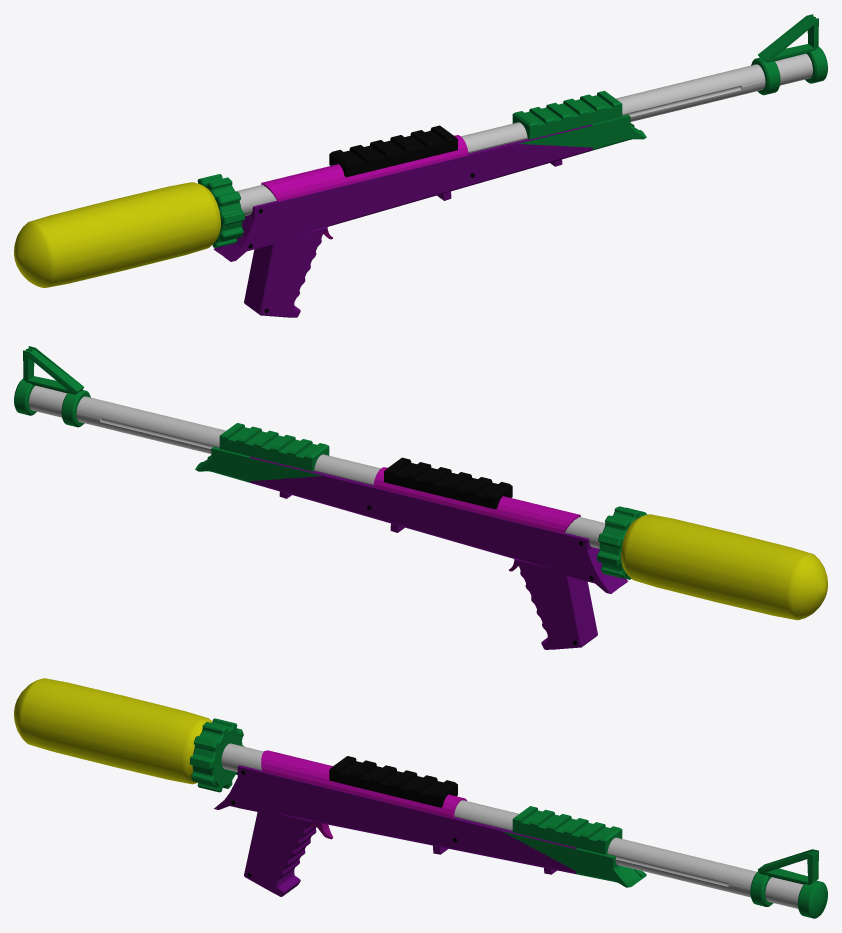
The model's file is Charger.fbx.
The picture shows the model from 3 angles, top to bottom: view 1: azimuth 30°, elevation 25°; view 2: azimuth 150°, elevation 25°; view 3: azimuth 330°, elevation 25°; orthographic projection.
Visible parts, largest first — view 1: pCylinder1, pCube3, pCylinder9, pCube4, pCube10, pCube9, pCylinder15, pCylinder2, pCube1, pCylinder5; view 2: pCylinder1, pCube3, pCylinder9, pCube4, pCube10, pCube9, pCylinder15, pCylinder2, pCube1, pCylinder5; view 3: pCube3, pCylinder1, pCylinder9, pCube4, pCube10, pCube9, pCylinder15, pCylinder2, pCube1, pCylinder4, pCylinder5.
Boxes of the visible parts, x1,y1,x2,y2 form: pCylinder1: [14, 182, 220, 287]; pCube3: [214, 114, 646, 261]; pCylinder9: [235, 53, 812, 215]; pCube4: [244, 226, 327, 317]; pCube10: [329, 125, 457, 177]; pCube9: [512, 90, 622, 139]; pCylinder15: [261, 135, 468, 201]; pCylinder2: [197, 174, 244, 247]; pCube1: [758, 14, 818, 62]; pCylinder5: [751, 57, 780, 95]; pCylinder1: [621, 514, 827, 620]; pCube3: [195, 446, 627, 593]; pCylinder9: [29, 385, 605, 548]; pCube4: [514, 558, 597, 649]; pCube10: [384, 457, 512, 509]; pCube9: [219, 423, 329, 471]; pCylinder15: [373, 467, 580, 533]; pCylinder2: [597, 506, 646, 579]; pCube1: [23, 346, 83, 394]; pCylinder5: [61, 390, 90, 427]; pCube3: [214, 765, 646, 887]; pCylinder1: [14, 678, 212, 784]; pCylinder9: [221, 743, 803, 908]; pCube4: [244, 812, 316, 896]; pCube10: [329, 756, 457, 807]; pCube9: [512, 806, 622, 854]; pCylinder15: [261, 750, 467, 818]; pCylinder2: [189, 718, 244, 792]; pCube1: [757, 849, 818, 884]; pCylinder4: [797, 880, 827, 918]; pCylinder5: [750, 871, 773, 906].
Bounding box in the file's own units: 14.17 × 2.81 × 1.09.
